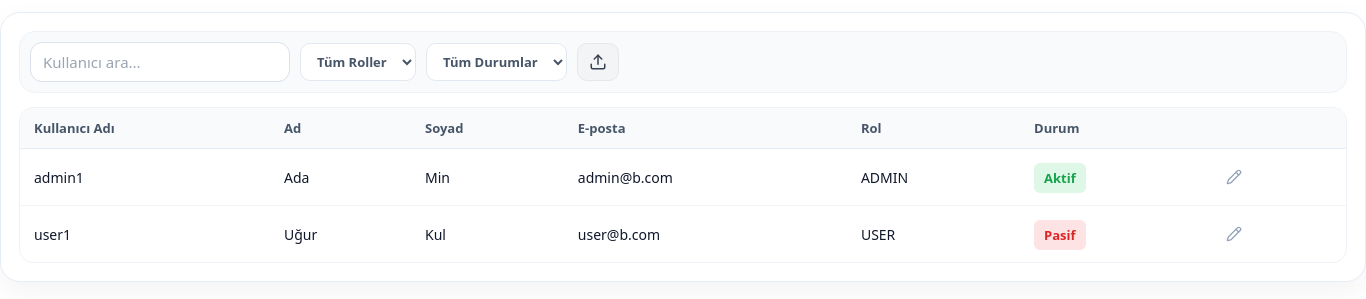
Test: UserList › filters by status
This screenshot has width=1366, height=299.
Expected: the text "admin1" is shown, [20,149,270,206]
Select "Pasif" in the 2nd dropdown showing "Tüm Durumlar" at point(496, 62), box [426,43,567,81]
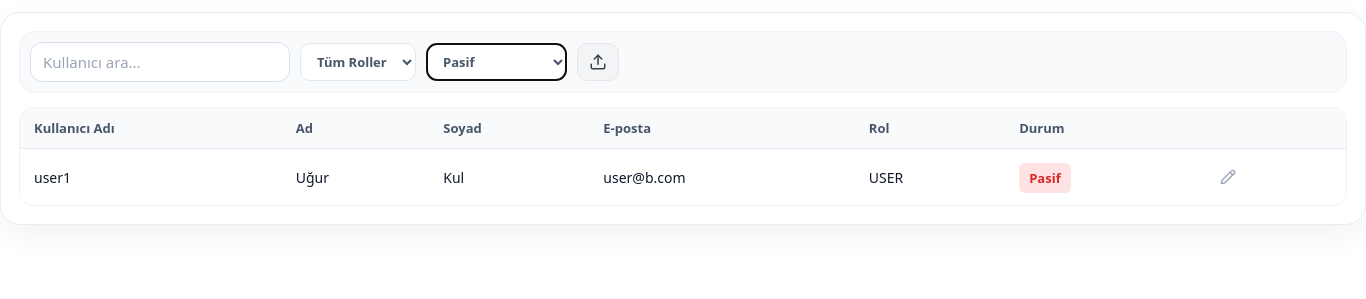
Expected: the text "user1" is shown, [20,149,282,205]
Now the text "admin1" is gone
